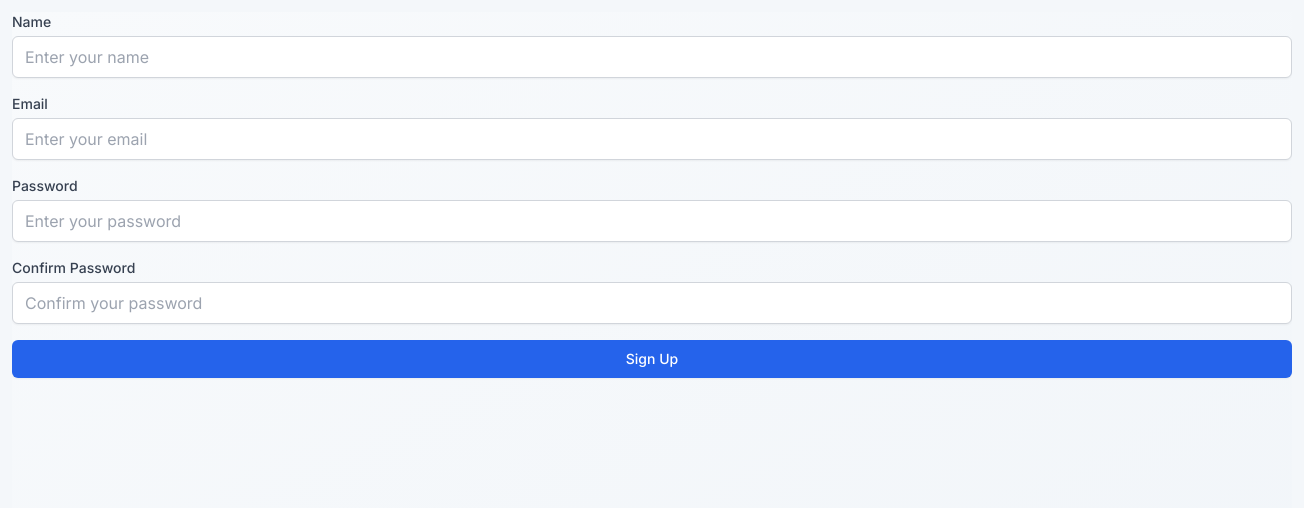
it: SignupForm › should show validation errors for empty fields
Click the button with test id "signup-button" at (652, 359), box [12,340,1292,378]
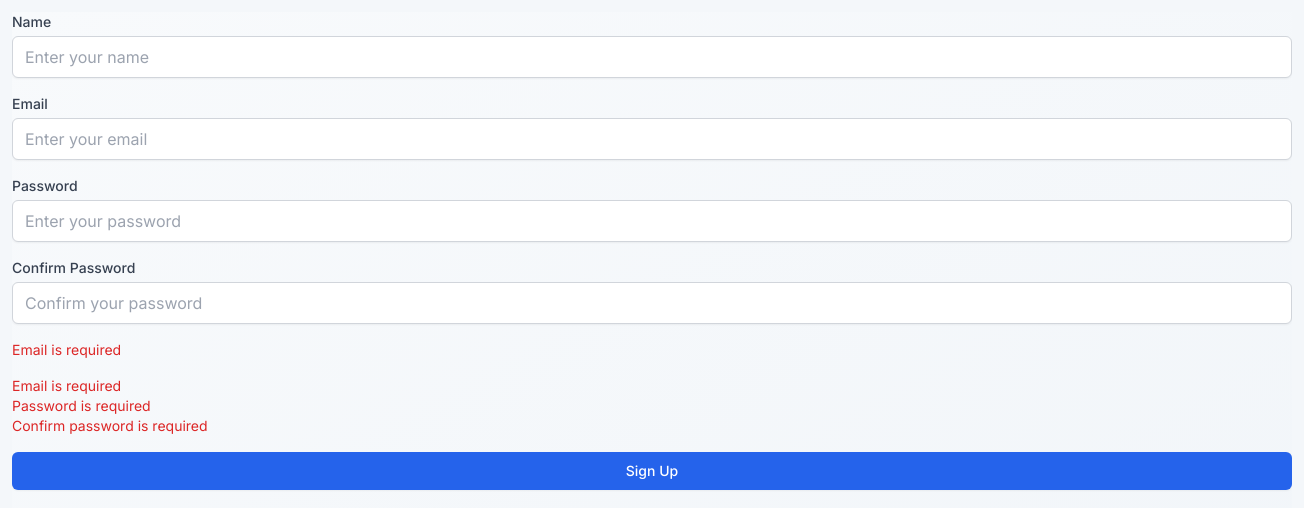
Expected: the 2nd text "Email is required" is shown, [12,377,121,394]
Expected: the text "Password is required" is shown, [12,397,151,414]
Expected: the text "Confirm password is required" is shown, [12,417,208,434]
